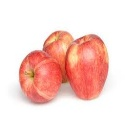apple: (18, 50, 62, 103)
